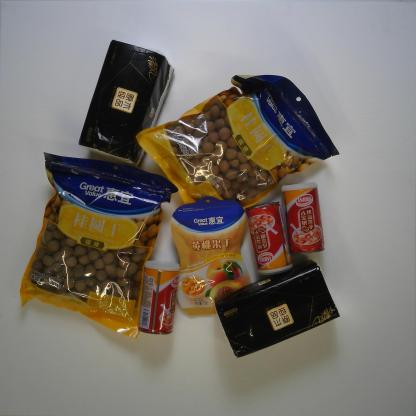Canned Food: (246, 200, 294, 277), (281, 180, 326, 256), (139, 257, 182, 336)
Dried Food: (20, 150, 180, 341), (135, 73, 340, 214)
Dried Fruit: (170, 196, 252, 315)
Tissue: (215, 258, 340, 359), (78, 39, 175, 166)
